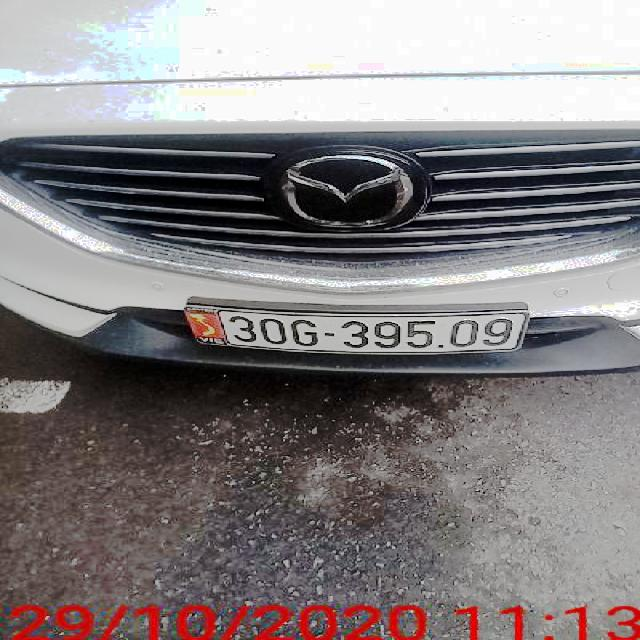license_plate: (185, 310, 530, 355)
